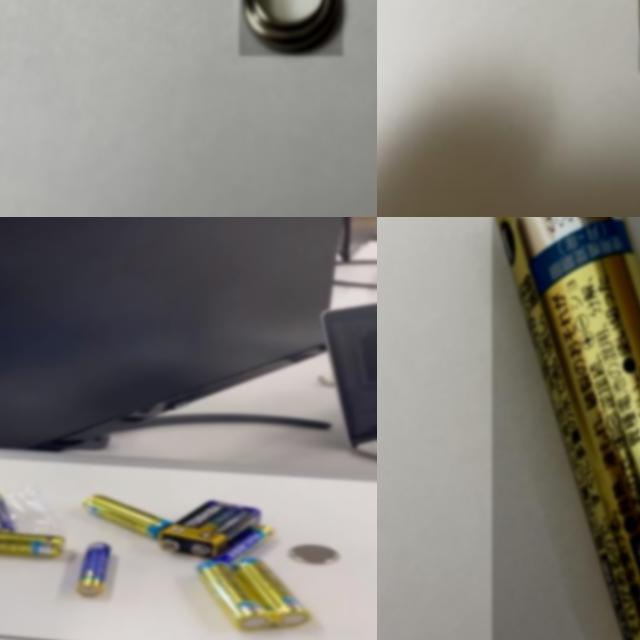9V: (156, 499, 263, 556)
